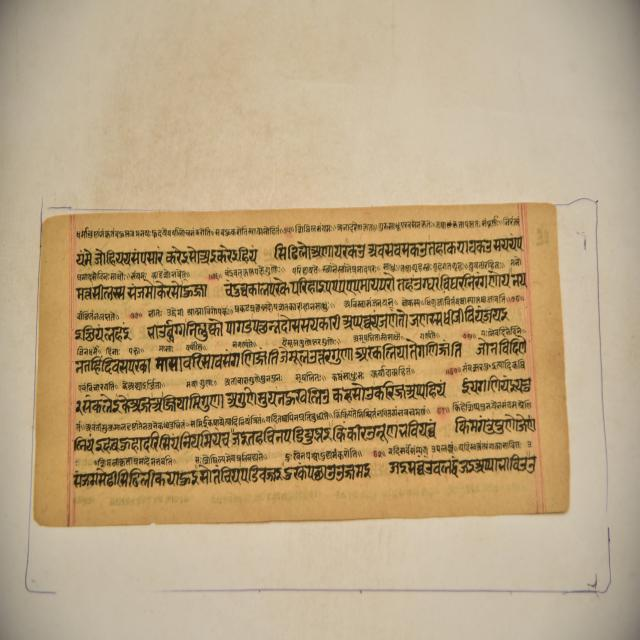text_paragraph: (30, 203, 570, 525)
